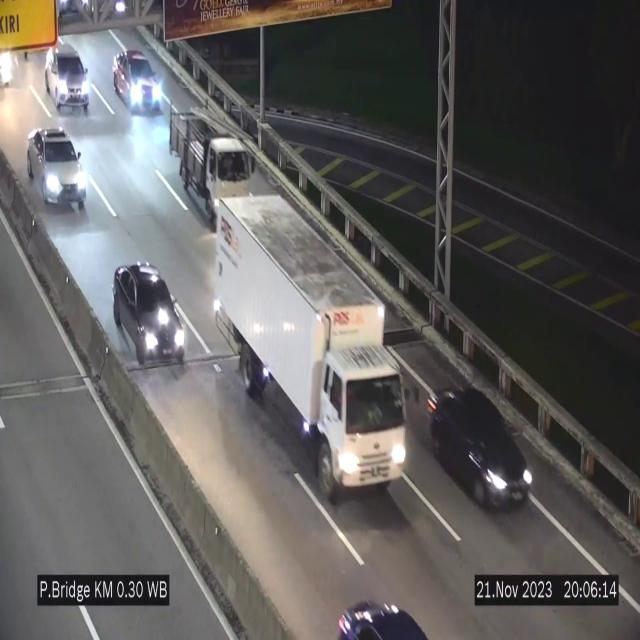Car: (423, 386, 533, 516), (112, 262, 190, 368), (334, 596, 444, 640), (27, 128, 85, 210), (110, 46, 164, 120), (43, 40, 93, 115)
Truck: (212, 195, 410, 504), (167, 109, 255, 223)
